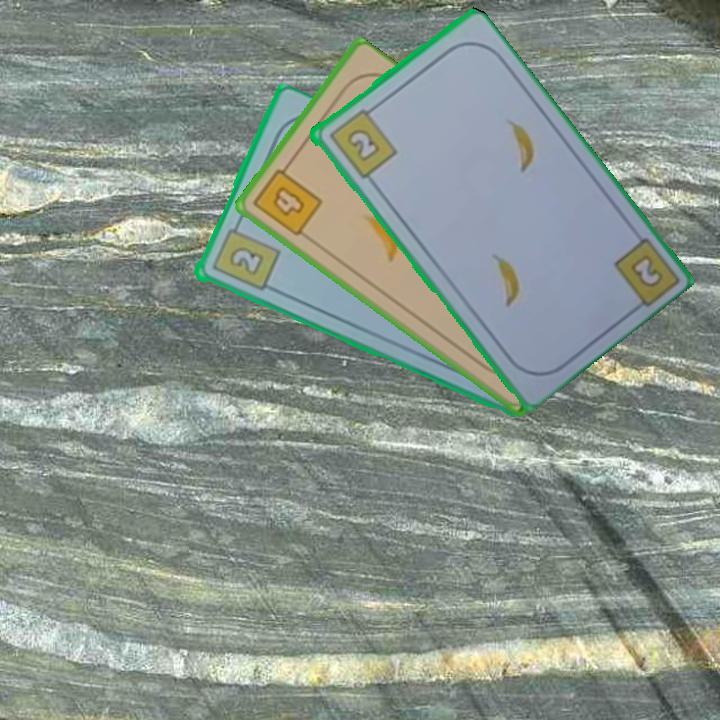2b: (325, 102, 399, 181), (208, 217, 282, 294), (629, 254, 663, 288)
4b: (249, 158, 326, 240)
